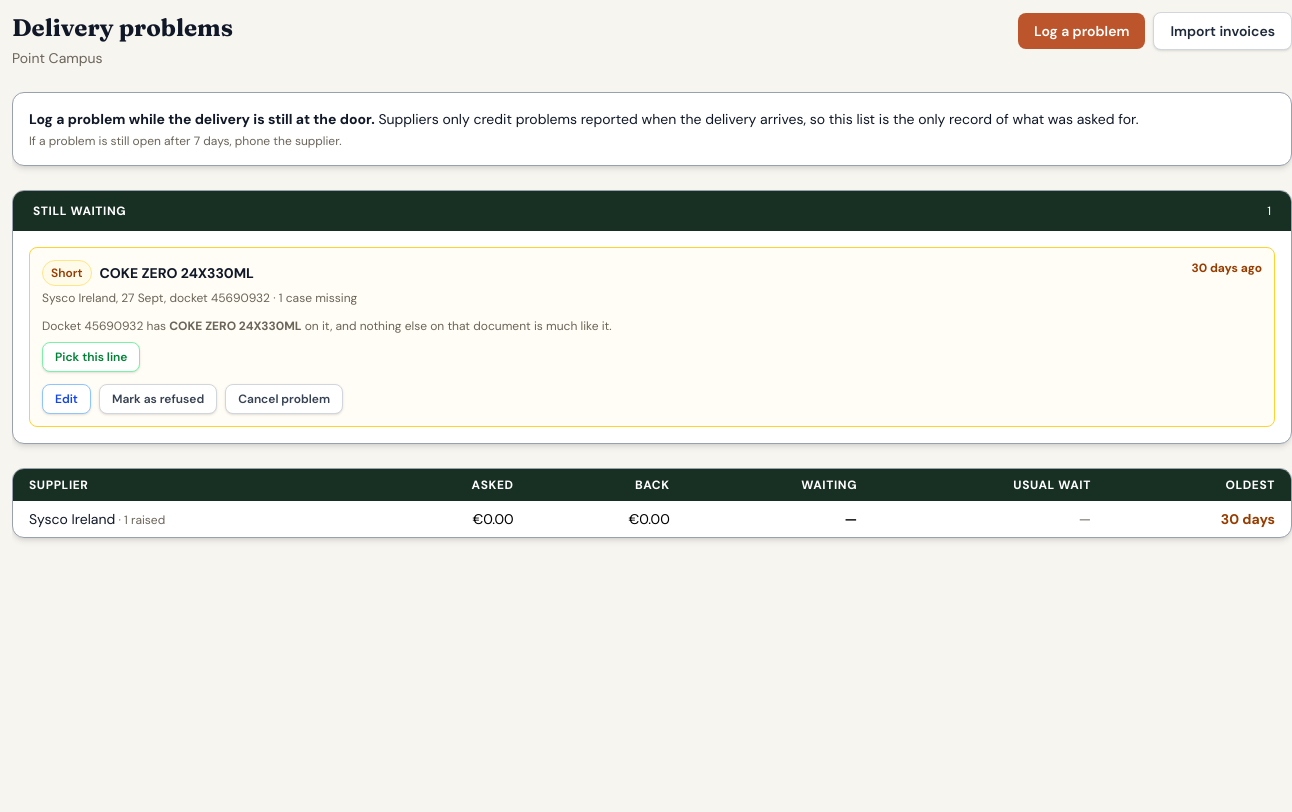
Test: putting a note from the door against its line › takes it off the week the delivery landed in, as the screen says
Click the button "Pick this line".
click(91, 357)  # box [42,342,140,372]
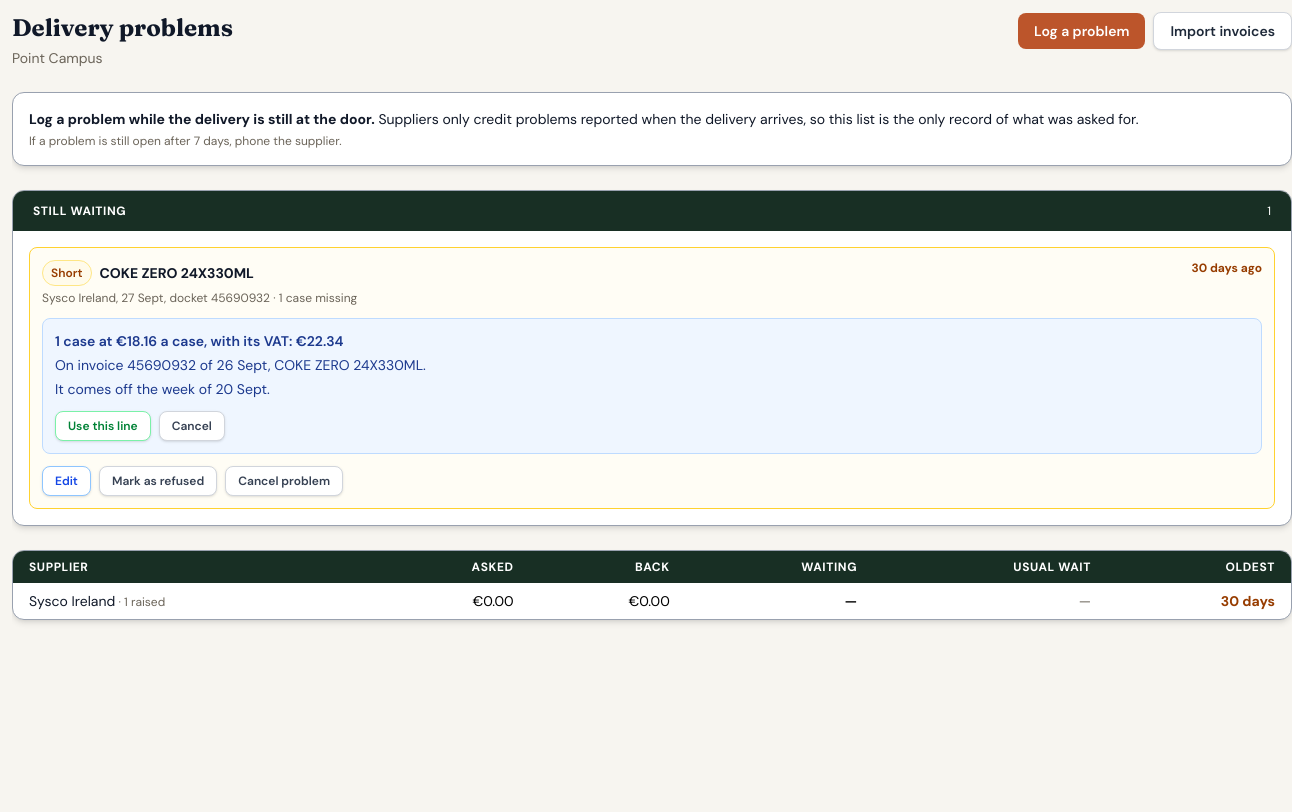
Click the button "Use this line".
click(103, 426)  # box [55,411,151,441]
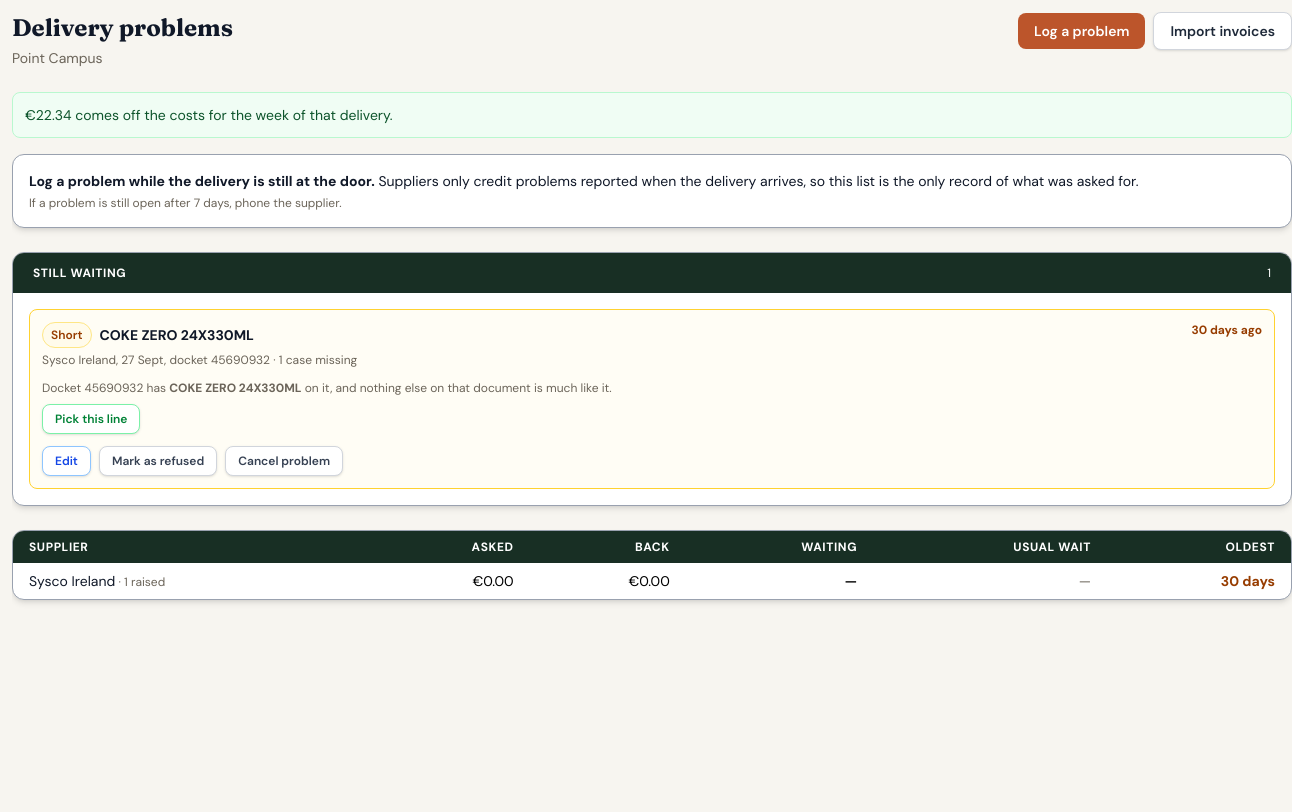
Expected: the text "€22.34 comes off the costs for the week of that delivery." is shown, [12,92,1291,138]
